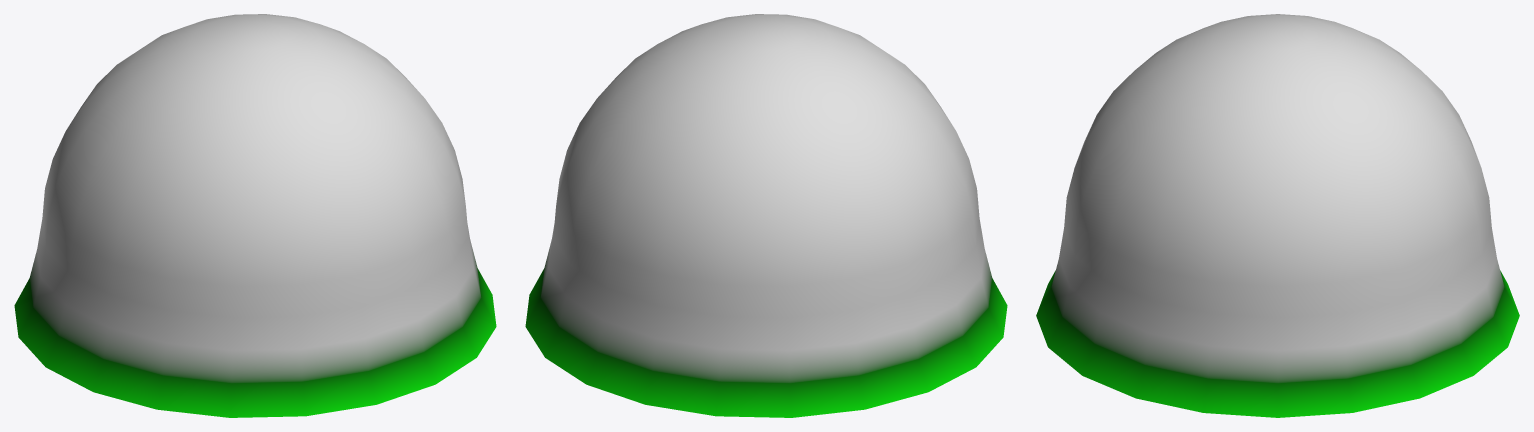
The model's file is TsunamiSphere.fbx.
3 views of the same model, side by side, from view 1: azimuth 30°, elevation 25°; view 2: azimuth 150°, elevation 25°; view 3: azimuth 270°, elevation 25° (orthographic).
Visible parts, largest first — view 1: Tsunami; view 2: Tsunami; view 3: Tsunami.
Boxes of the visible parts, x1,y1,x2,y2 form: Tsunami: (14,14,496,417); Tsunami: (525,14,1007,417); Tsunami: (1036,14,1519,417).
Size of the model in its own units: 226 by 145 by 226.
